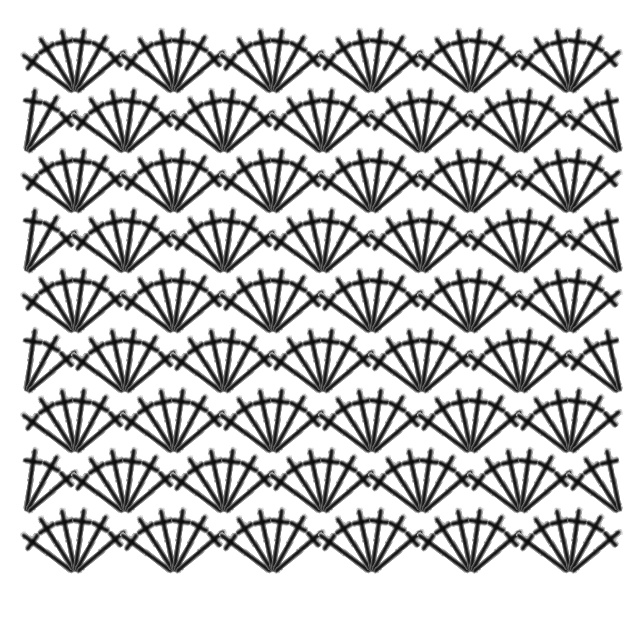enseble_chain: (10, 36, 87, 108), (63, 36, 140, 108), (109, 36, 186, 108), (162, 36, 239, 108), (208, 36, 285, 108), (261, 36, 338, 108), (307, 36, 384, 108), (360, 36, 437, 108), (406, 36, 483, 108), (459, 36, 536, 108), (505, 36, 582, 108), (558, 36, 635, 108), (14, 96, 91, 168), (60, 96, 137, 168), (113, 96, 190, 168), (159, 96, 236, 168), (212, 96, 289, 168), (258, 96, 335, 168), (311, 96, 388, 168), (357, 96, 434, 168), (410, 96, 487, 168), (456, 96, 533, 168), (509, 96, 586, 168), (555, 96, 632, 168), (10, 156, 87, 228), (63, 156, 140, 228), (109, 156, 186, 228), (162, 156, 239, 228), (208, 156, 285, 228), (261, 156, 338, 228), (307, 156, 384, 228), (360, 156, 437, 228), (406, 156, 483, 228), (459, 156, 536, 228), (505, 156, 582, 228), (558, 156, 635, 228), (14, 216, 91, 288), (60, 216, 137, 288), (113, 216, 190, 288), (159, 216, 236, 288), (212, 216, 289, 288), (258, 216, 335, 288), (311, 216, 388, 288), (357, 216, 434, 288), (410, 216, 487, 288), (456, 216, 533, 288), (509, 216, 586, 288), (555, 216, 632, 288), (10, 276, 87, 348), (63, 276, 140, 348), (109, 276, 186, 348), (162, 276, 239, 348), (208, 276, 285, 348), (261, 276, 338, 348), (307, 276, 384, 348), (360, 276, 437, 348), (406, 276, 483, 348), (459, 276, 536, 348), (505, 276, 582, 348), (558, 276, 635, 348), (14, 336, 91, 408), (60, 336, 137, 408), (113, 336, 190, 408), (159, 336, 236, 408), (212, 336, 289, 408), (258, 336, 335, 408), (311, 336, 388, 408), (357, 336, 434, 408), (410, 336, 487, 408), (456, 336, 533, 408), (509, 336, 586, 408), (555, 336, 632, 408), (10, 396, 87, 468), (63, 396, 140, 468), (109, 396, 186, 468), (162, 396, 239, 468), (208, 396, 285, 468), (261, 396, 338, 468), (307, 396, 384, 468), (360, 396, 437, 468), (406, 396, 483, 468), (459, 396, 536, 468), (505, 396, 582, 468), (558, 396, 635, 468), (14, 456, 91, 528), (60, 456, 137, 528), (113, 456, 190, 528), (159, 456, 236, 528), (212, 456, 289, 528), (258, 456, 335, 528), (311, 456, 388, 528), (357, 456, 434, 528), (410, 456, 487, 528), (456, 456, 533, 528), (509, 456, 586, 528), (555, 456, 632, 528), (10, 516, 87, 588), (63, 516, 140, 588), (109, 516, 186, 588), (162, 516, 239, 588), (208, 516, 285, 588), (261, 516, 338, 588), (307, 516, 384, 588), (360, 516, 437, 588), (406, 516, 483, 588), (459, 516, 536, 588), (505, 516, 582, 588), (558, 516, 635, 588), (24, 25, 92, 103), (58, 25, 126, 103), (123, 25, 191, 103), (157, 25, 225, 103), (222, 25, 290, 103), (256, 25, 324, 103), (321, 25, 389, 103), (355, 25, 423, 103), (420, 25, 488, 103), (454, 25, 522, 103), (519, 25, 587, 103), (553, 25, 621, 103), (9, 85, 77, 163), (74, 85, 142, 163), (108, 85, 176, 163), (173, 85, 241, 163), (207, 85, 275, 163), (272, 85, 340, 163), (306, 85, 374, 163), (371, 85, 439, 163), (405, 85, 473, 163), (470, 85, 538, 163), (504, 85, 572, 163), (569, 85, 637, 163), (24, 145, 92, 223), (58, 145, 126, 223), (123, 145, 191, 223), (157, 145, 225, 223), (222, 145, 290, 223), (256, 145, 324, 223), (321, 145, 389, 223), (355, 145, 423, 223), (420, 145, 488, 223), (454, 145, 522, 223), (519, 145, 587, 223), (553, 145, 621, 223), (9, 205, 77, 283), (74, 205, 142, 283), (108, 205, 176, 283), (173, 205, 241, 283), (207, 205, 275, 283), (272, 205, 340, 283), (306, 205, 374, 283), (371, 205, 439, 283), (405, 205, 473, 283), (470, 205, 538, 283), (504, 205, 572, 283), (569, 205, 637, 283), (24, 265, 92, 343), (58, 265, 126, 343), (123, 265, 191, 343), (157, 265, 225, 343), (222, 265, 290, 343), (256, 265, 324, 343), (321, 265, 389, 343), (355, 265, 423, 343), (420, 265, 488, 343), (454, 265, 522, 343), (519, 265, 587, 343), (553, 265, 621, 343), (9, 325, 77, 403), (74, 325, 142, 403), (108, 325, 176, 403), (173, 325, 241, 403), (207, 325, 275, 403), (272, 325, 340, 403), (306, 325, 374, 403), (371, 325, 439, 403), (405, 325, 473, 403), (470, 325, 538, 403), (504, 325, 572, 403), (569, 325, 637, 403), (24, 385, 92, 463), (58, 385, 126, 463), (123, 385, 191, 463), (157, 385, 225, 463), (222, 385, 290, 463), (256, 385, 324, 463), (321, 385, 389, 463), (355, 385, 423, 463), (420, 385, 488, 463), (454, 385, 522, 463), (519, 385, 587, 463), (553, 385, 621, 463), (9, 445, 77, 523), (74, 445, 142, 523), (108, 445, 176, 523), (173, 445, 241, 523), (207, 445, 275, 523), (272, 445, 340, 523), (306, 445, 374, 523), (371, 445, 439, 523), (405, 445, 473, 523), (470, 445, 538, 523), (504, 445, 572, 523), (569, 445, 637, 523), (24, 505, 92, 583), (58, 505, 126, 583), (123, 505, 191, 583), (157, 505, 225, 583), (222, 505, 290, 583), (256, 505, 324, 583), (321, 505, 389, 583), (355, 505, 423, 583), (420, 505, 488, 583), (454, 505, 522, 583), (519, 505, 587, 583), (553, 505, 621, 583), (44, 24, 94, 96), (56, 24, 106, 96), (143, 24, 193, 96), (155, 24, 205, 96), (242, 24, 292, 96), (254, 24, 304, 96), (341, 24, 391, 96), (353, 24, 403, 96), (440, 24, 490, 96), (452, 24, 502, 96), (539, 24, 589, 96), (551, 24, 601, 96), (7, 84, 57, 156), (94, 84, 144, 156), (106, 84, 156, 156), (193, 84, 243, 156), (205, 84, 255, 156), (292, 84, 342, 156), (304, 84, 354, 156), (391, 84, 441, 156), (403, 84, 453, 156), (490, 84, 540, 156), (502, 84, 552, 156), (589, 84, 639, 156), (44, 144, 94, 216), (56, 144, 106, 216), (143, 144, 193, 216), (155, 144, 205, 216), (242, 144, 292, 216), (254, 144, 304, 216), (341, 144, 391, 216), (353, 144, 403, 216), (440, 144, 490, 216), (452, 144, 502, 216), (539, 144, 589, 216), (551, 144, 601, 216), (7, 204, 57, 276), (94, 204, 144, 276), (106, 204, 156, 276), (193, 204, 243, 276), (205, 204, 255, 276), (292, 204, 342, 276), (304, 204, 354, 276), (391, 204, 441, 276), (403, 204, 453, 276), (490, 204, 540, 276), (502, 204, 552, 276), (589, 204, 639, 276), (44, 264, 94, 336), (56, 264, 106, 336), (143, 264, 193, 336), (155, 264, 205, 336), (242, 264, 292, 336), (254, 264, 304, 336), (341, 264, 391, 336), (353, 264, 403, 336), (440, 264, 490, 336), (452, 264, 502, 336), (539, 264, 589, 336), (551, 264, 601, 336), (7, 324, 57, 396), (94, 324, 144, 396), (106, 324, 156, 396), (193, 324, 243, 396), (205, 324, 255, 396), (292, 324, 342, 396), (304, 324, 354, 396), (391, 324, 441, 396), (403, 324, 453, 396), (490, 324, 540, 396), (502, 324, 552, 396), (589, 324, 639, 396), (44, 384, 94, 456), (56, 384, 106, 456), (143, 384, 193, 456), (155, 384, 205, 456), (242, 384, 292, 456), (254, 384, 304, 456), (341, 384, 391, 456), (353, 384, 403, 456), (440, 384, 490, 456), (452, 384, 502, 456), (539, 384, 589, 456), (551, 384, 601, 456), (7, 444, 57, 516), (94, 444, 144, 516), (106, 444, 156, 516), (193, 444, 243, 516), (205, 444, 255, 516), (292, 444, 342, 516), (304, 444, 354, 516), (391, 444, 441, 516), (403, 444, 453, 516), (490, 444, 540, 516), (502, 444, 552, 516), (589, 444, 639, 516), (44, 504, 94, 576), (56, 504, 106, 576), (143, 504, 193, 576), (155, 504, 205, 576), (242, 504, 292, 576), (254, 504, 304, 576), (341, 504, 391, 576), (353, 504, 403, 576), (440, 504, 490, 576), (452, 504, 502, 576), (539, 504, 589, 576), (551, 504, 601, 576)
